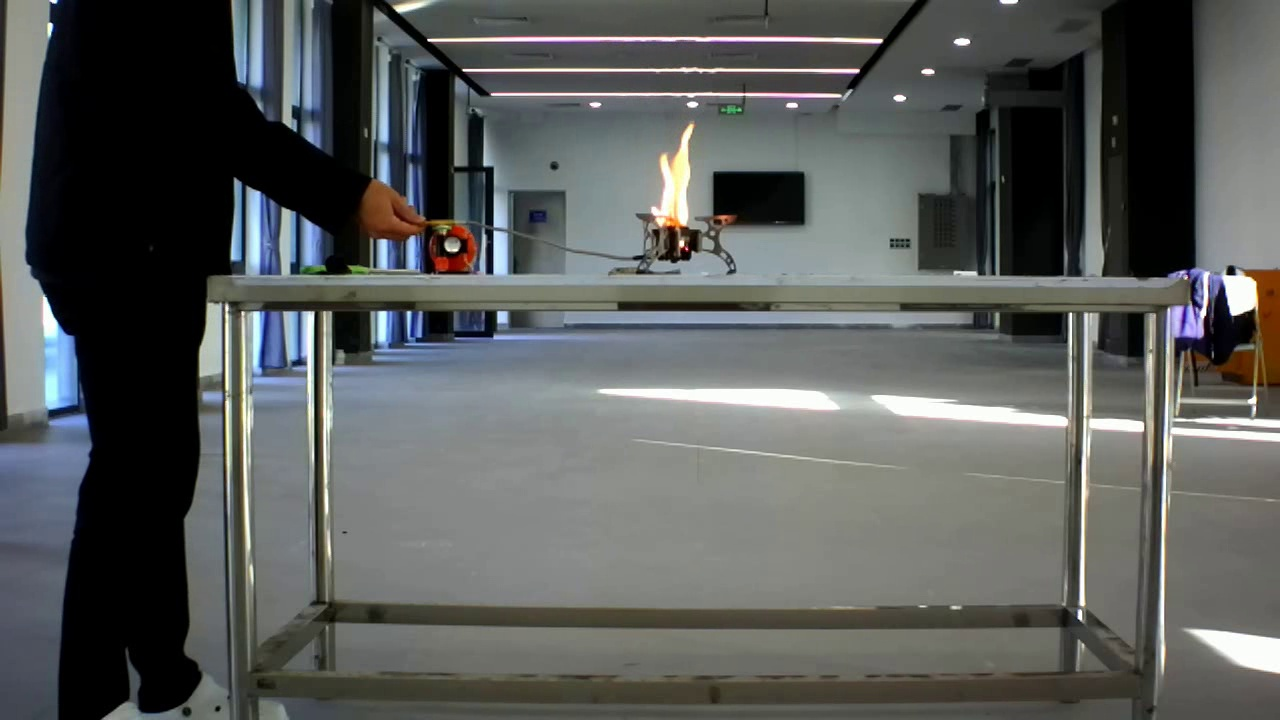Fire: (642, 110, 718, 260)
